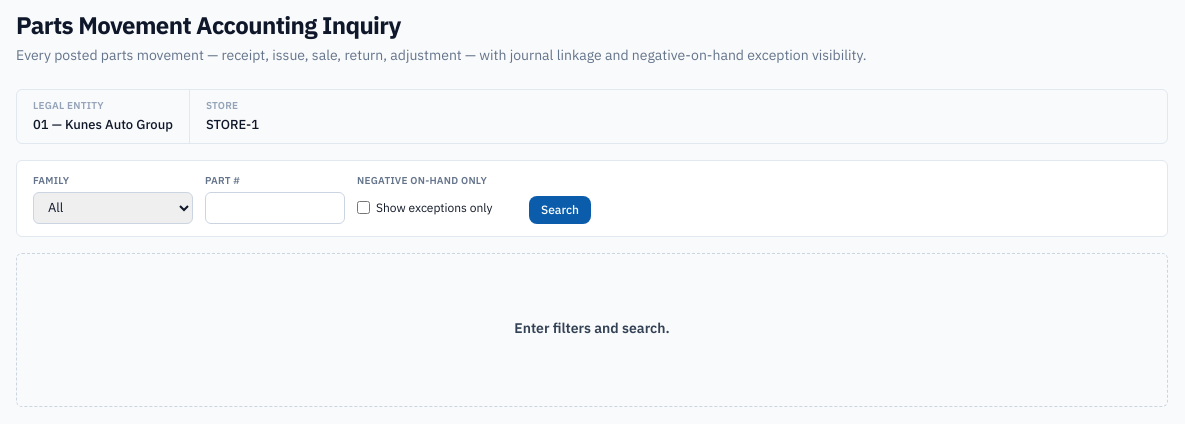
Test: PartsMovements › renders movement rows after search
Click the button with test id "parts-movements-search" at (560,210), box 529,196 -> 591,224
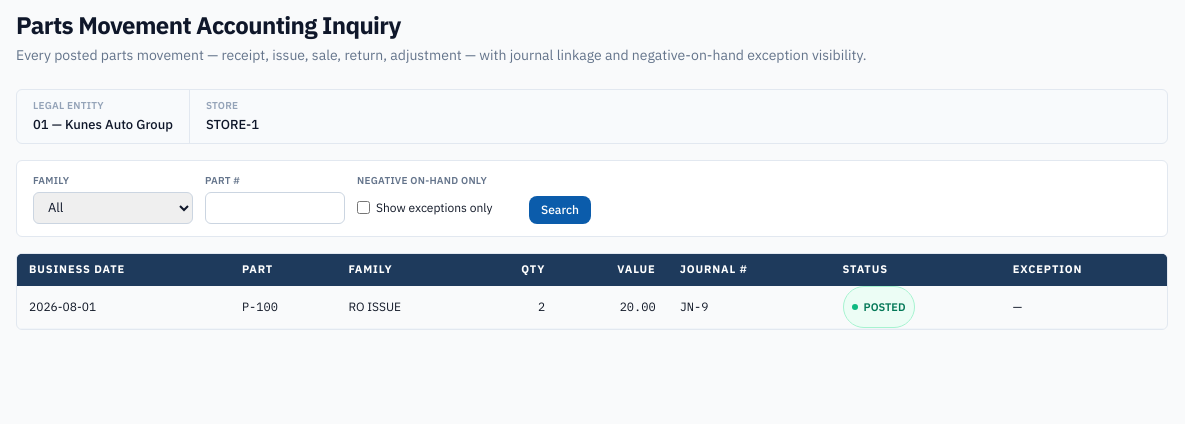
Check: the table with test id "parts-movements-table" is shown, box 17,254 -> 1167,328
Check: the text "P-100" is shown, box 230,286 -> 336,328
